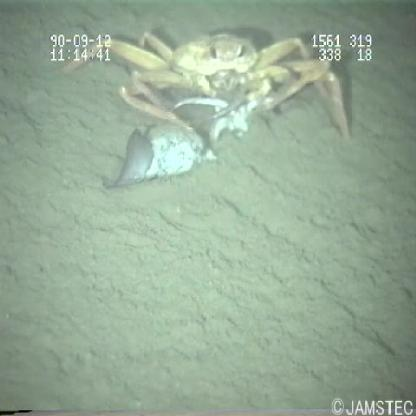Bio: (52, 20, 354, 190)
